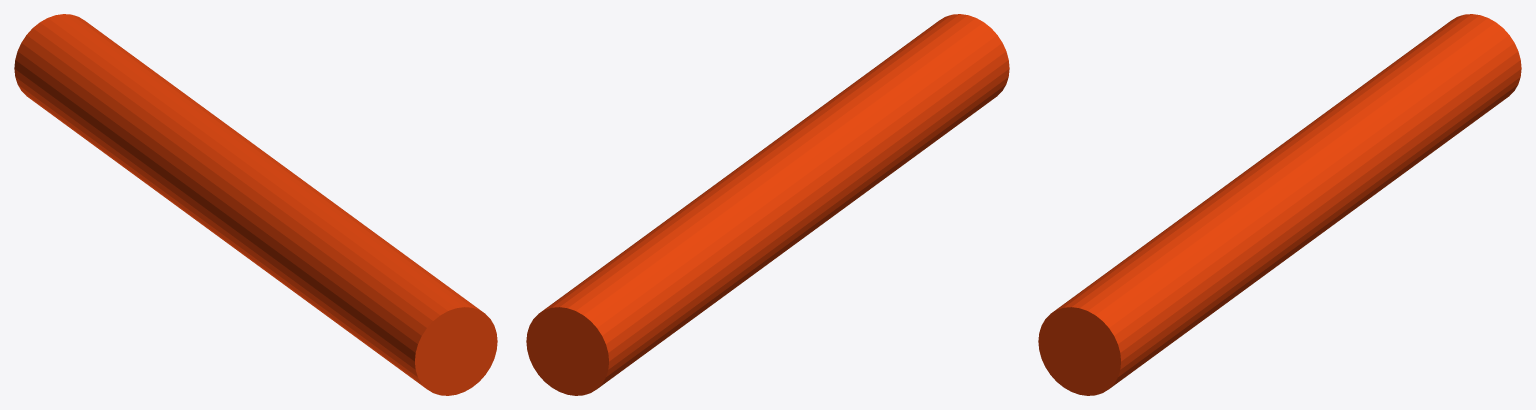
The model's file is kłoda 1.fbx.
The picture shows the model from 3 angles, left to right: view 1: azimuth 30°, elevation 25°; view 2: azimuth 150°, elevation 25°; view 3: azimuth 330°, elevation 25°; orthographic projection.
Visible parts, largest first — view 1: F_Kłoda; view 2: F_Kłoda; view 3: F_Kłoda.
Part boxes in pixels (x1,y1,x2,y2): F_Kłoda: [14, 14, 497, 395]; F_Kłoda: [526, 14, 1009, 395]; F_Kłoda: [1038, 14, 1521, 395].
Bounding box in the file's own units: 23.86 × 23.86 × 200.
